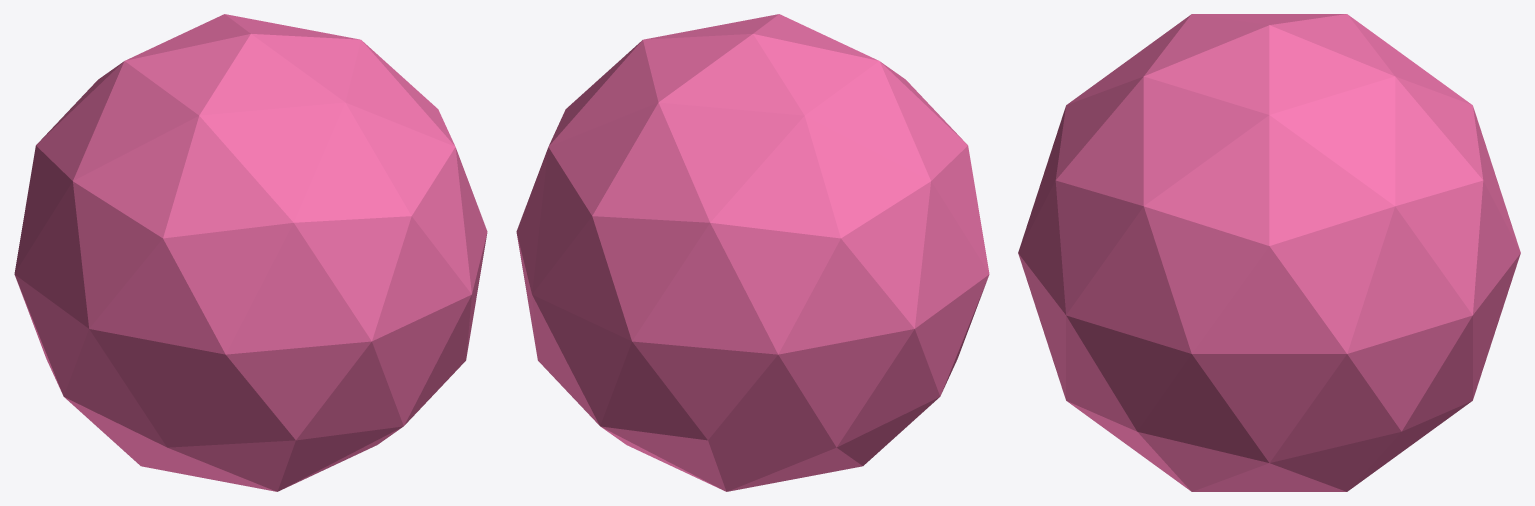
Rendered from candy_planet.glb.
3 renders of one model, left to right at view 1: azimuth 30°, elevation 25°; view 2: azimuth 150°, elevation 25°; view 3: azimuth 270°, elevation 25°, orthographic. The views are drawn at different scales.
Parts seen in each view (by area): view 1: candy_planet; view 2: candy_planet; view 3: candy_planet.
Boxes of the visible parts, x1=… form: candy_planet: x1=14, y1=14, x2=487, y2=491; candy_planet: x1=516, y1=14, x2=989, y2=491; candy_planet: x1=1018, y1=14, x2=1520, y2=491.
Size of the model in its own units: 1.9 by 2 by 2.
